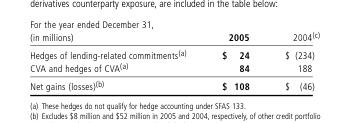table: (29, 29, 318, 91)
table column: (29, 29, 203, 91), (203, 29, 266, 91), (266, 29, 318, 91)
table column header: (29, 29, 318, 44)
table row: (29, 44, 318, 60), (29, 60, 318, 76), (29, 29, 318, 44), (29, 76, 318, 91)
